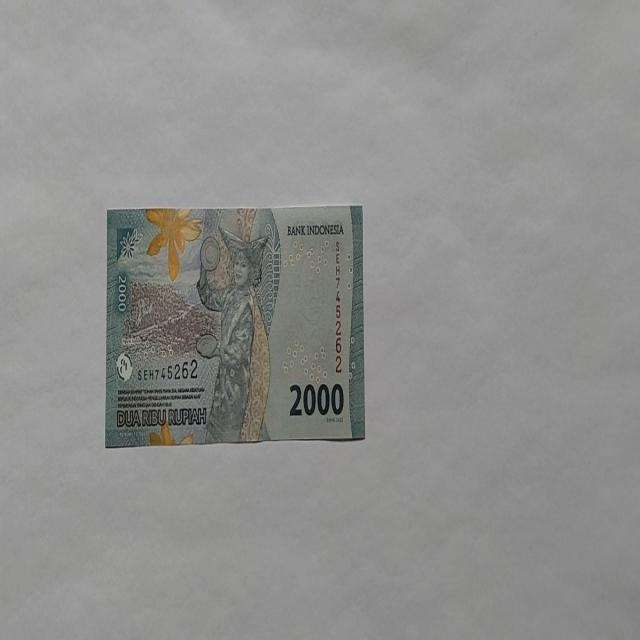dua ribu rupiah: (104, 202, 366, 448), (195, 224, 272, 444)
